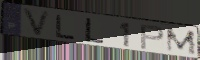1: (118, 22, 131, 48)
L: (55, 13, 78, 41), (84, 17, 106, 45)
M: (165, 28, 198, 56)
P: (139, 24, 166, 51)
V: (21, 8, 53, 40)
